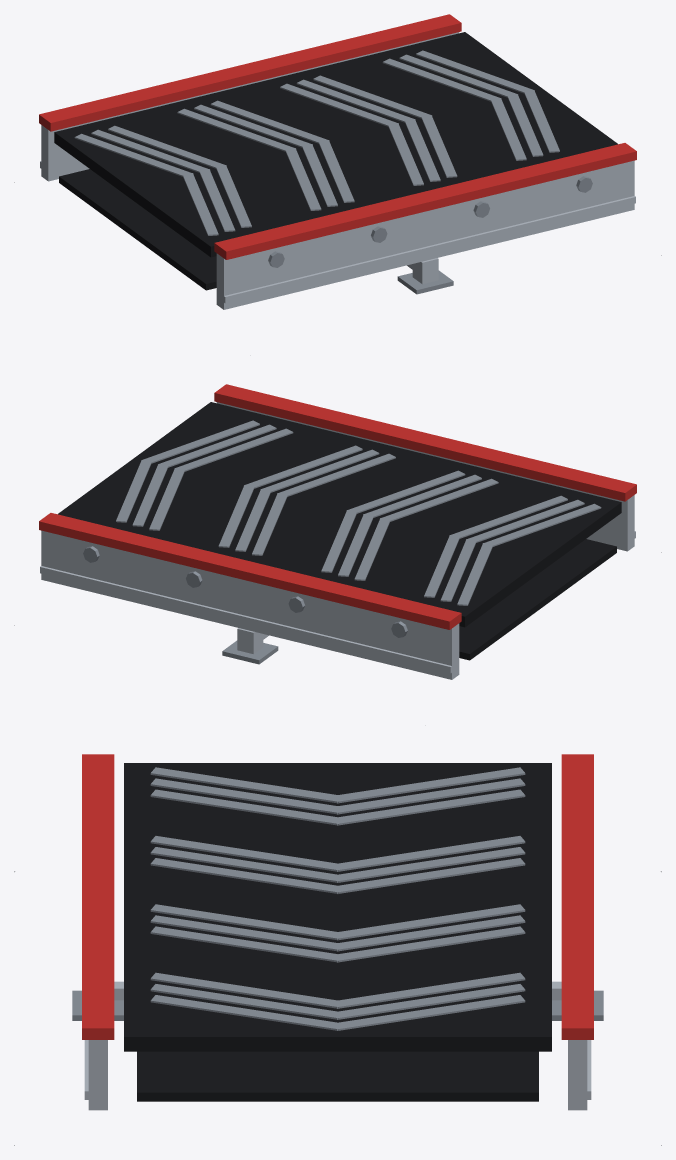
Rendered from convoyeur_t3.glb.
3 views of the same model, one above another, from view 1: azimuth 30°, elevation 25°; view 2: azimuth 150°, elevation 25°; view 3: azimuth 270°, elevation 25° (orthographic). The views are drawn at different scales.
Visible parts, largest first — view 1: pieces_noir.030, pieces_gris_clair.016, bande_acier.048, pieces_rive_t3.006, pieces_acier.054; view 2: pieces_noir.030, pieces_gris_clair.016, bande_acier.048, pieces_rive_t3.006, pieces_acier.054; view 3: pieces_noir.030, bande_acier.048, pieces_rive_t3.006, pieces_gris_clair.016, pieces_acier.054.
Boxes of the visible parts, bbox=[...] form: pieces_noir.030: bbox=[54, 32, 617, 290]; pieces_gris_clair.016: bbox=[40, 32, 635, 309]; bande_acier.048: bbox=[74, 50, 559, 235]; pieces_rive_t3.006: bbox=[39, 14, 636, 259]; pieces_acier.054: bbox=[268, 176, 592, 294]; pieces_noir.030: bbox=[58, 402, 621, 660]; pieces_gris_clair.016: bbox=[40, 402, 635, 679]; bande_acier.048: bbox=[116, 420, 601, 605]; pieces_rive_t3.006: bbox=[39, 384, 636, 629]; pieces_acier.054: bbox=[83, 546, 407, 664]; pieces_noir.030: bbox=[124, 763, 551, 1101]; bande_acier.048: bbox=[150, 767, 525, 1030]; pieces_rive_t3.006: bbox=[82, 754, 593, 1039]; pieces_gris_clair.016: bbox=[84, 981, 591, 1110]; pieces_acier.054: bbox=[72, 990, 603, 1020].
Bounding box in the file's own units: 1 × 0.2 × 1.
